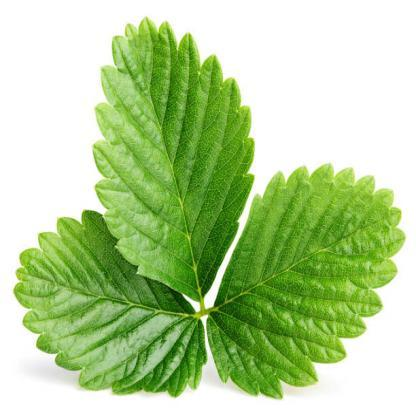Strawberry leaf: (208, 156, 414, 403), (90, 13, 259, 308), (13, 184, 206, 400)
